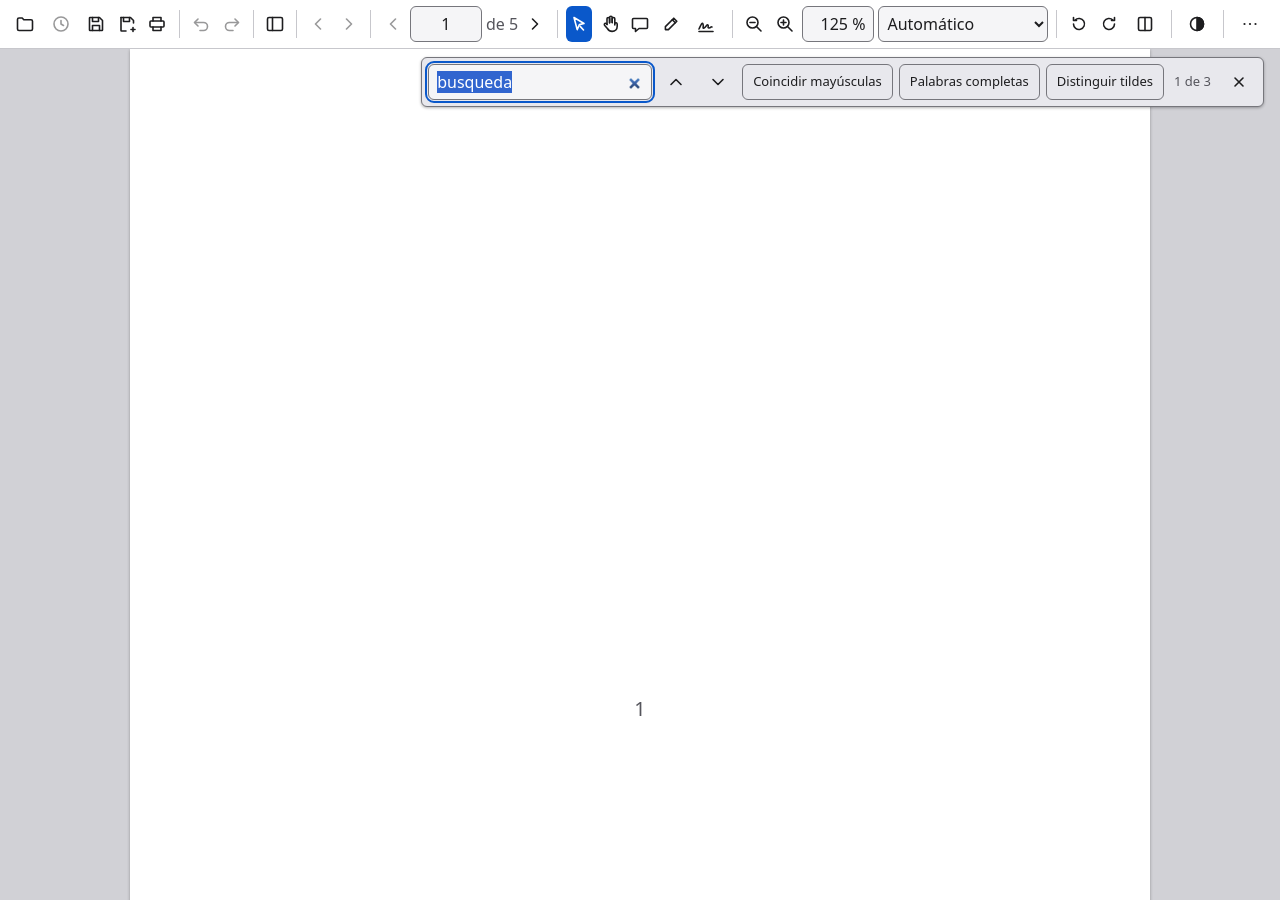
Scenario: Barra de búsqueda › los botones de opción tienen aria-pressed y title, y se conmutan al pulsarlos
(page scrolled)
Click the button "Palabras completas" at (969, 82), box [899, 64, 1040, 100]
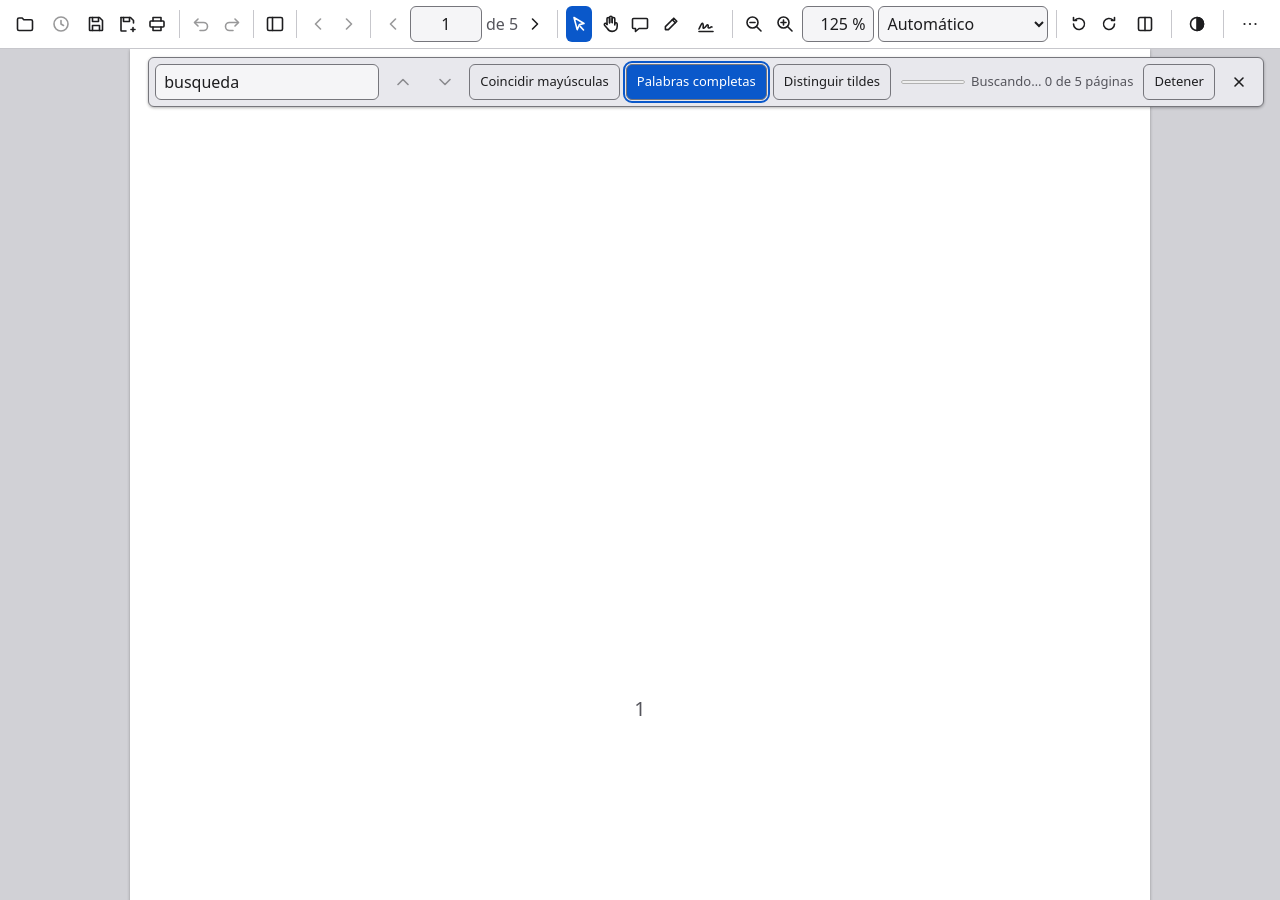
Expected: the button "Palabras completas" is pressed, [626, 64, 767, 100]
